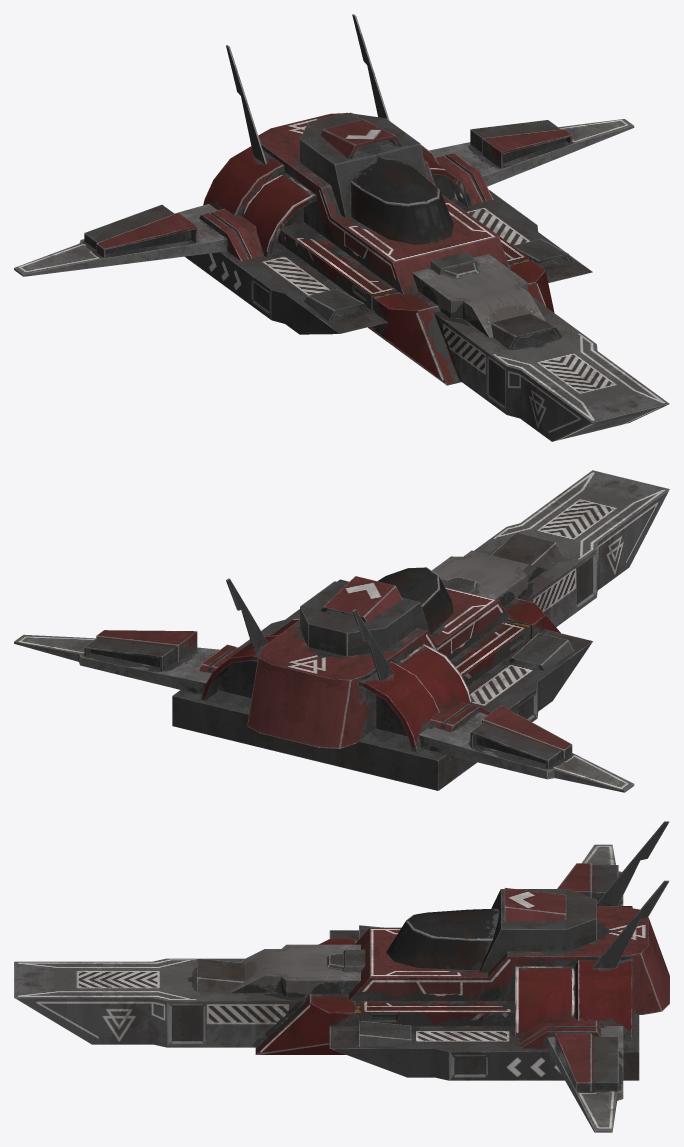
File: Challenger.glb
3 views of the same model, one above another, from view 1: azimuth 30°, elevation 25°; view 2: azimuth 150°, elevation 25°; view 3: azimuth 270°, elevation 25° (orthographic). The views are drawn at different scales.
Parts seen in each view (by area): view 1: Challenger; view 2: Challenger; view 3: Challenger.
Part boxes in pixels (bbox=[...]): Challenger: bbox=[14, 14, 669, 441]; Challenger: bbox=[14, 470, 669, 792]; Challenger: bbox=[14, 821, 669, 1132].
Bounding box in the file's own units: 10.5 × 3.02 × 10.18.
Materials: 1 (1 with a texture image).
